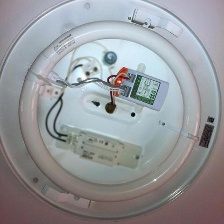light_bulb: (13, 14, 207, 205)
